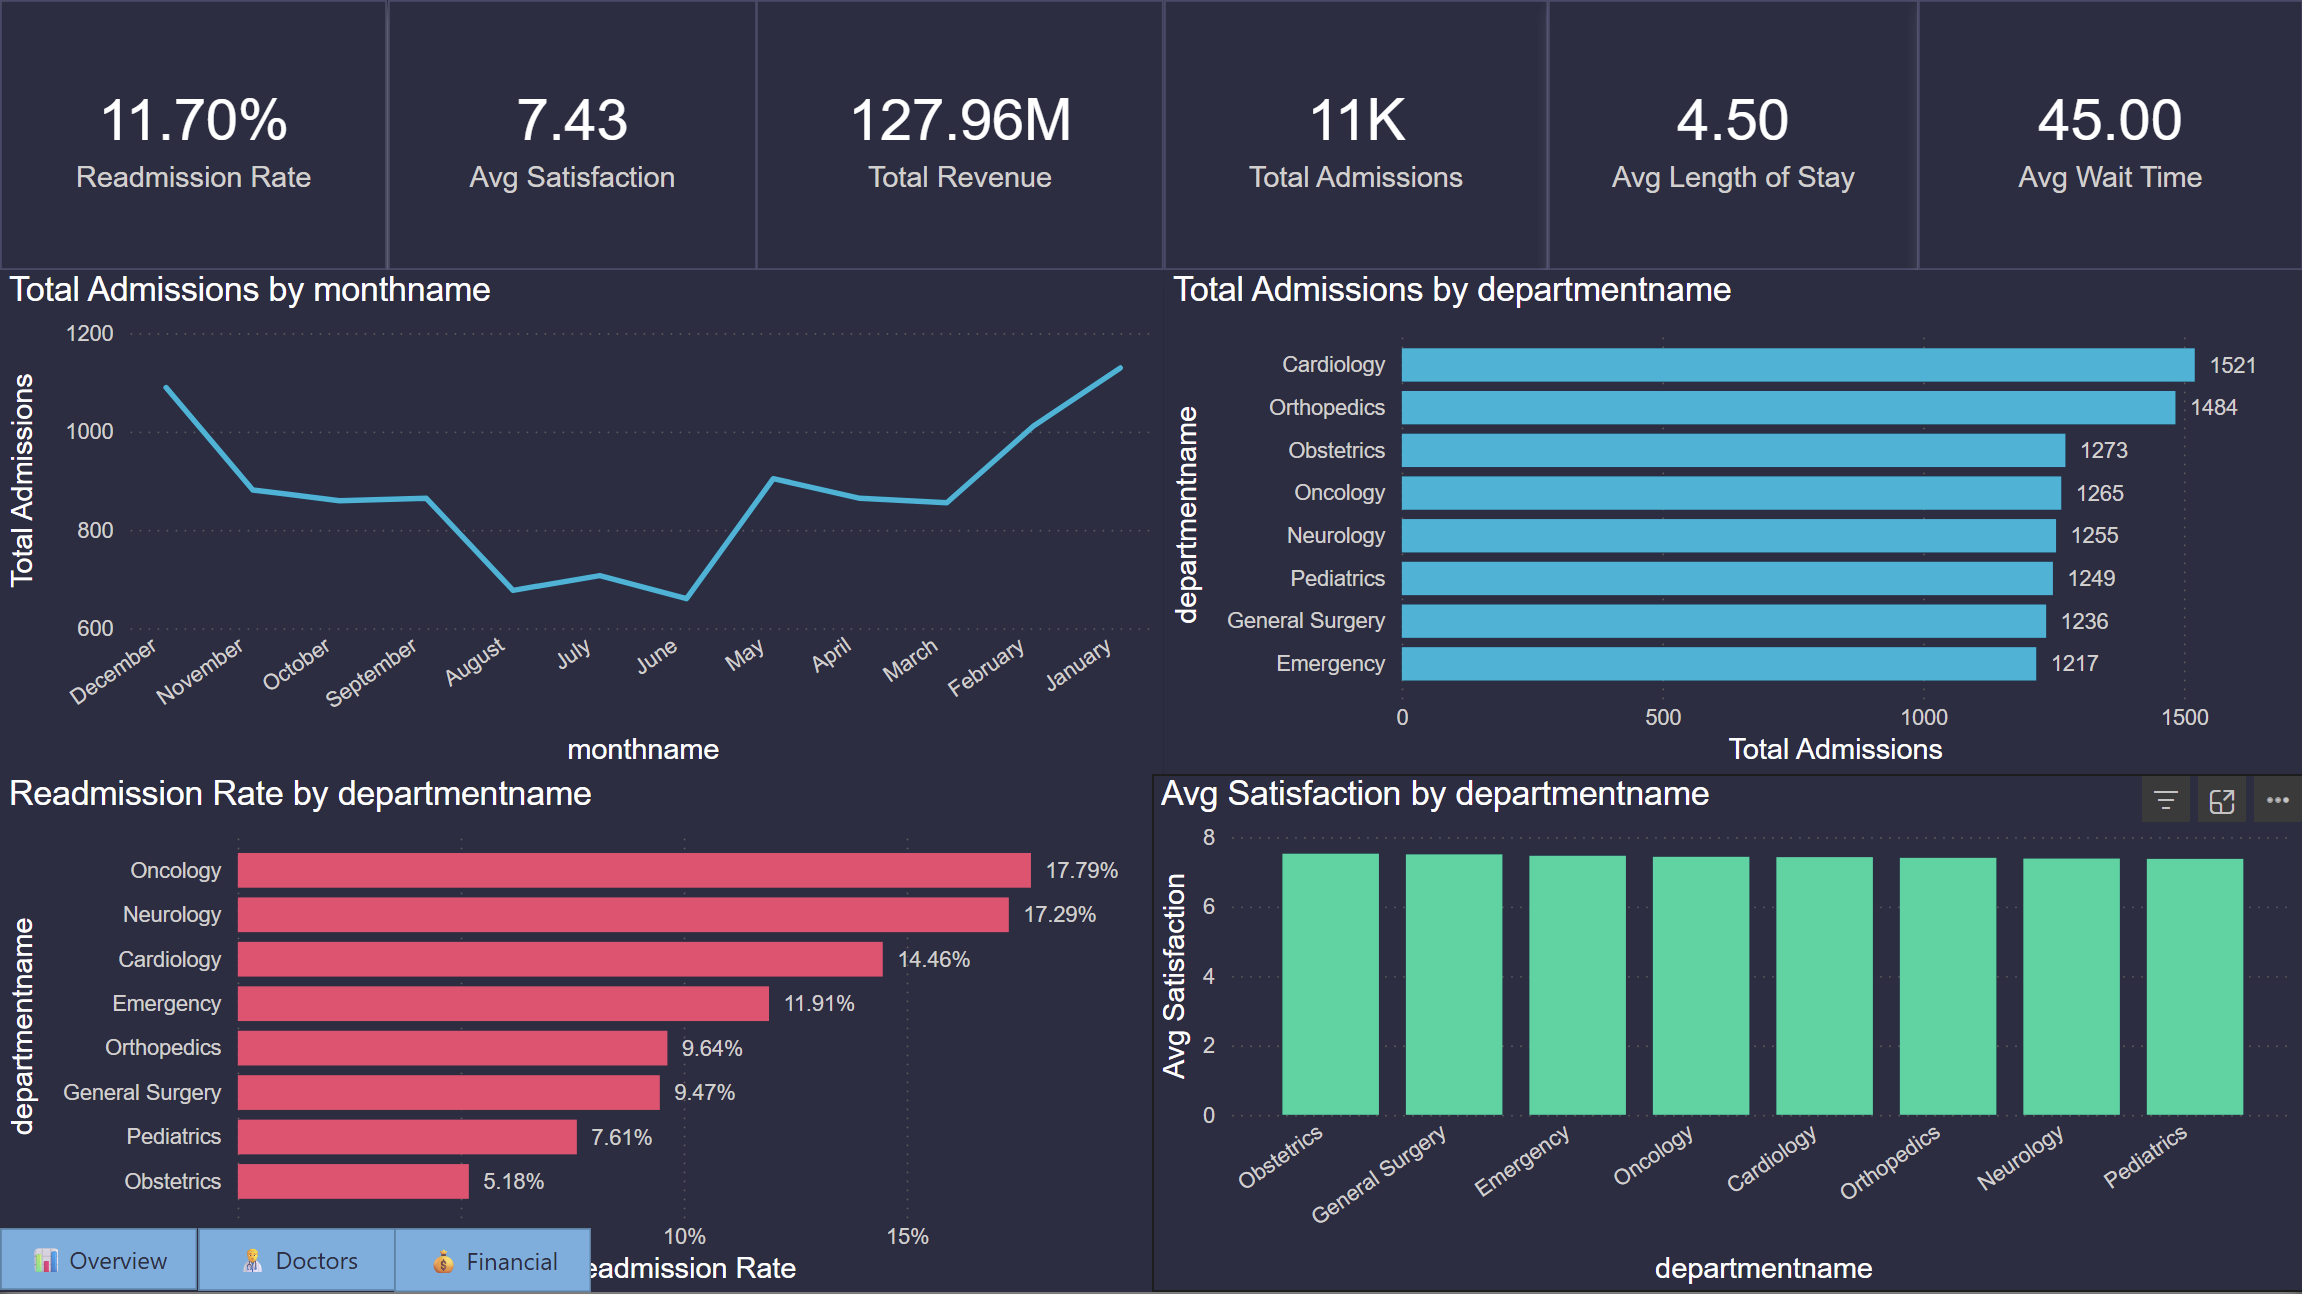

What the dashboard file says about the page in this screenshot:
{"tool":"powerbi","page":{"name":"Overview","canvas":[1280,720],"ordinal":0},"visuals":[{"type":"card","fields":{"Values":["public dim_date.Total Admissions"]},"box":[646.7,1.7,213.3,150],"z":0},{"type":"card","fields":{"Values":["public dim_date.Avg Length of Stay"]},"box":[860,2,206,150],"z":1000},{"type":"card","fields":{"Values":["public dim_date.Avg Wait Time"]},"box":[1066,2,214,150],"z":2000},{"type":"card","fields":{"Values":["public dim_date.Readmission Rate"]},"box":[0,1.7,215,150],"z":3000},{"type":"card","fields":{"Values":["public dim_date.Total Revenue"]},"box":[420,1.7,226.7,150],"z":4000},{"type":"card","fields":{"Values":["public dim_date.Avg Satisfaction"]},"box":[215,1.7,205,150],"z":5000},{"type":"barChart","fields":{"Category":["public dim_department.departmentname"],"Y":["public dim_date.Total Admissions"]},"box":[646.7,151.7,633.3,280],"z":6000},{"type":"lineChart","fields":{"Category":["public dim_date.monthname"],"Y":["public dim_date.Total Admissions"]},"box":[0,151.7,646.7,280],"z":7000},{"type":"clusteredColumnChart","fields":{"Category":["public dim_department.departmentname"],"Y":["public dim_date.Avg Satisfaction"]},"box":[640,431.7,640,288.3],"z":8000},{"type":"clusteredBarChart","fields":{"Category":["public dim_department.departmentname"],"Y":["public dim_date.Readmission Rate"]},"box":[0,431.7,640,288.3],"z":9000},{"type":"shape","box":[0,684.6,109.6,34.4],"z":10000},{"type":"shape","box":[110,684.6,110,35],"z":11000},{"type":"shape","box":[219.3,684.6,109.6,35.7],"z":12000}]}

Visuals, with their boxes on the page's 1280x720 design canvas (x1, y1, x2, y2). These are canvas units, not pixel positions in the 2302x1294 screenshot, which may show the page scaled, cropped or inside an application window:
card - public dim_date.Total Admissions: 647/2/860/152
card - public dim_date.Avg Length of Stay: 860/2/1066/152
card - public dim_date.Avg Wait Time: 1066/2/1280/152
card - public dim_date.Readmission Rate: 0/2/215/152
card - public dim_date.Total Revenue: 420/2/647/152
card - public dim_date.Avg Satisfaction: 215/2/420/152
barChart - public dim_department.departmentname x public dim_date.Total Admissions: 647/152/1280/432
lineChart - public dim_date.monthname x public dim_date.Total Admissions: 0/152/647/432
clusteredColumnChart - public dim_department.departmentname x public dim_date.Avg Satisfaction: 640/432/1280/720
clusteredBarChart - public dim_department.departmentname x public dim_date.Readmission Rate: 0/432/640/720
shape: 0/685/110/719
shape: 110/685/220/720
shape: 219/685/329/720
